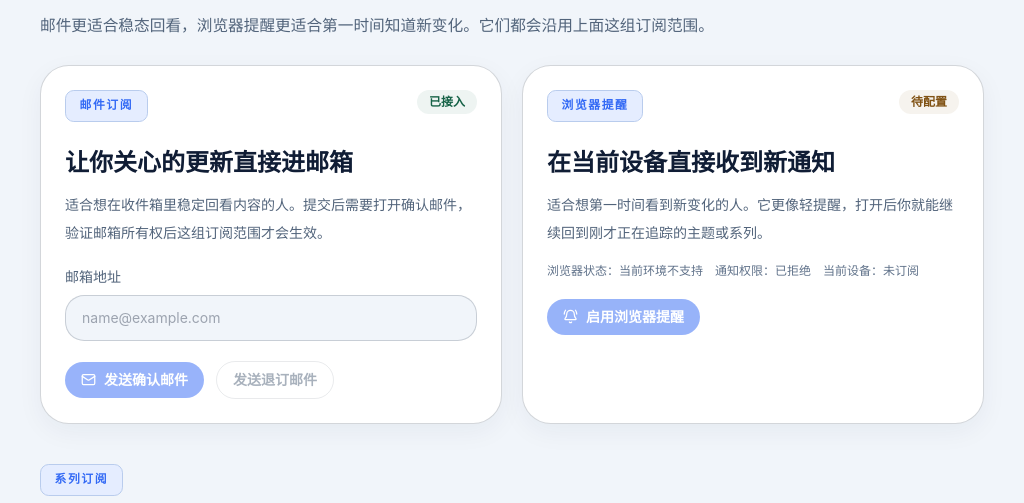
Test: requests a signed unsubscribe link instead of cancelling by bare email
The width and height of the screenshot is (1024, 503).
(page scrolled)
Type "reader@example.com" into the field labelled "邮箱地址" at (271, 318), box [65,295,477,341]
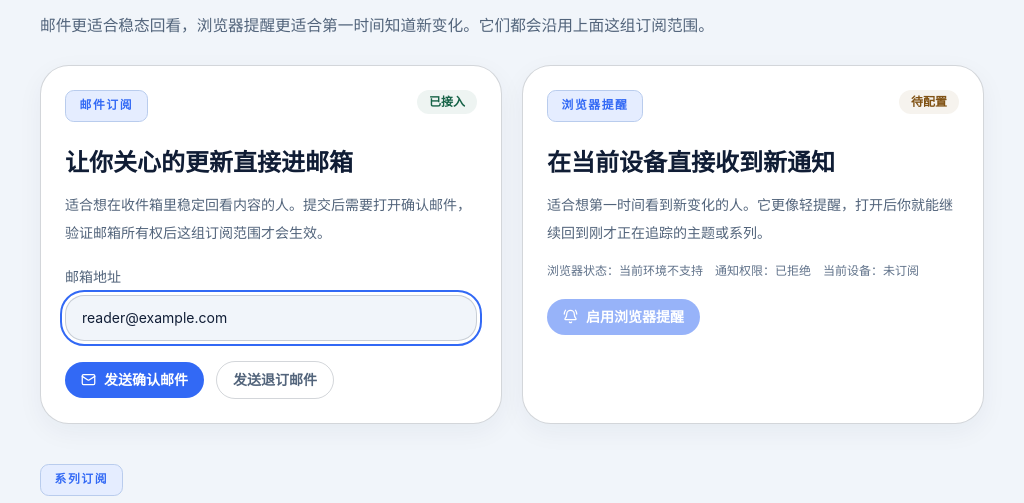
Click the button "发送退订邮件" at (275, 380), box [216,361,334,399]
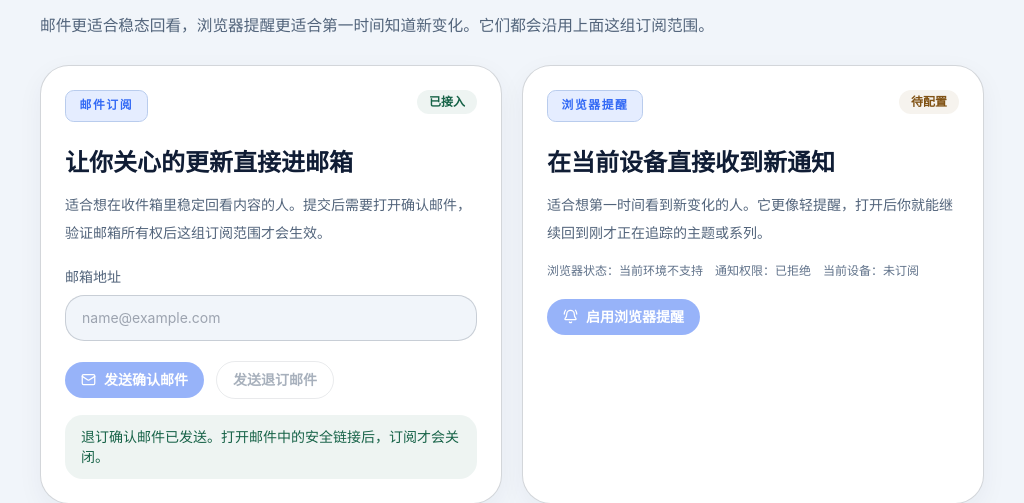
Expected: the text "退订确认邮件已发送。打开邮件中的安全链接后，订阅才会关闭。" is shown, [65,415,477,479]
